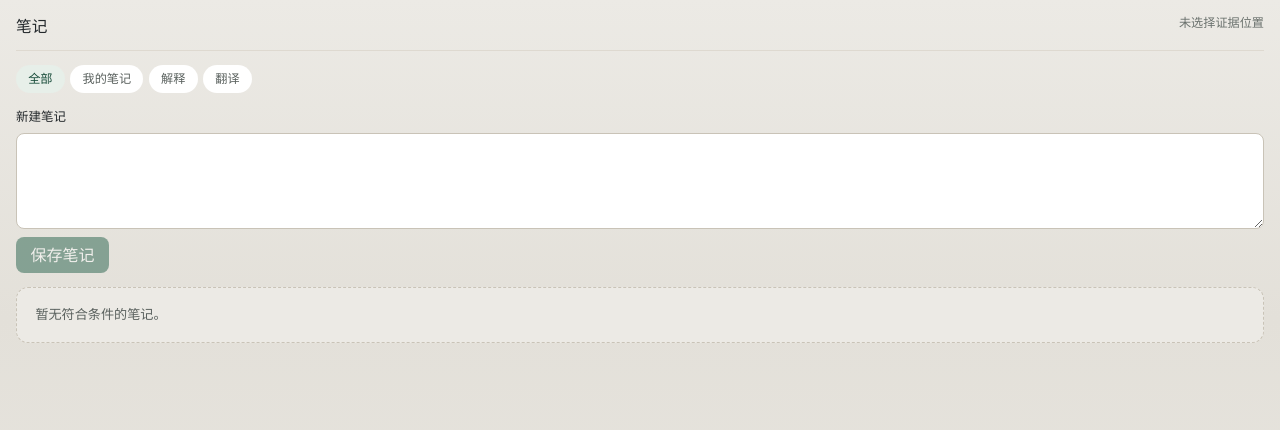
Test: keeps an unbound note draft for retry when saving fails
The image size is (1280, 430).
In the text box labelled "新建笔记": (640, 181) [16,133,1264,229], type "独立观察。"
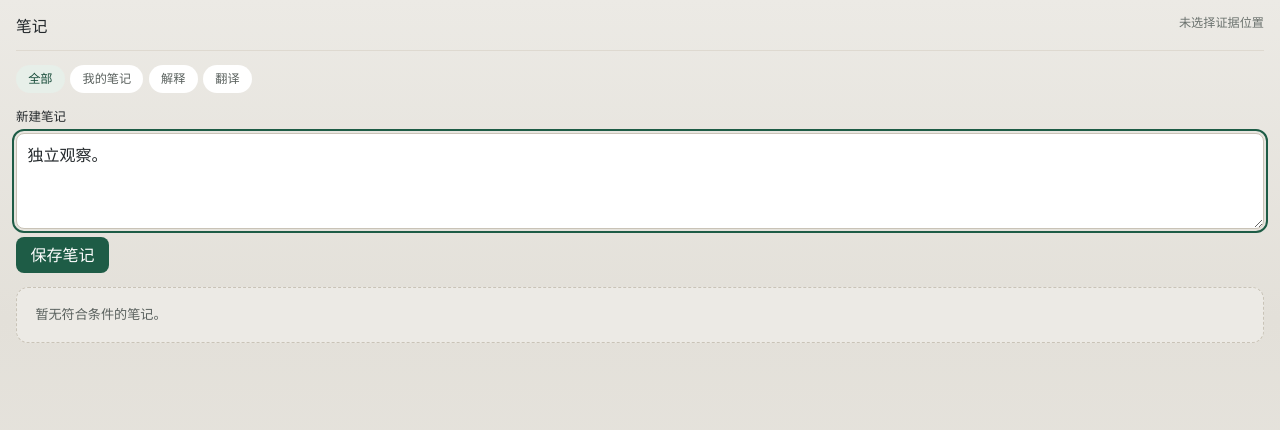
Click the button "保存笔记": click(63, 255) [16,237,109,273]
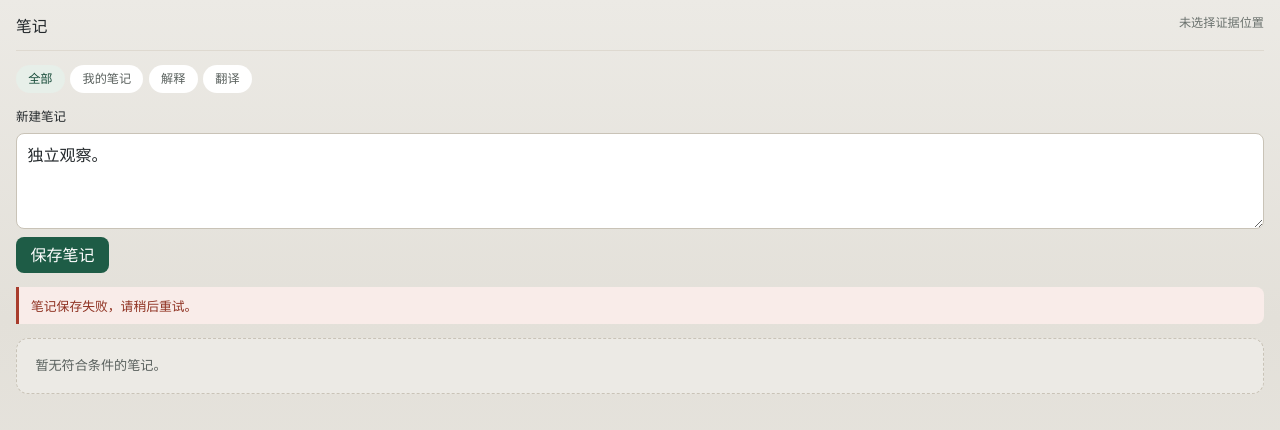
Expected: the message reads "笔记保存失败，请稍后重试。", [31,297,197,315]
